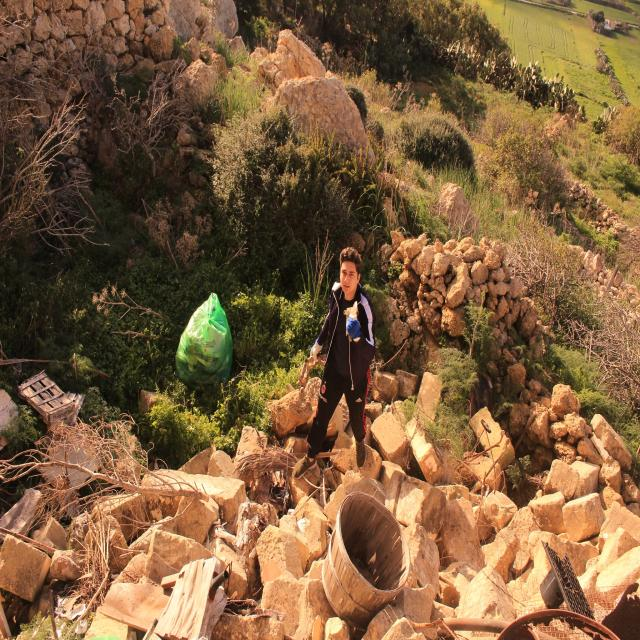Other litter: (321, 493, 413, 629), (17, 370, 85, 427)
Other plastic: (540, 544, 597, 624), (344, 301, 358, 324), (346, 326, 352, 342)
Plastic bag - wrapper: (175, 293, 233, 391)
